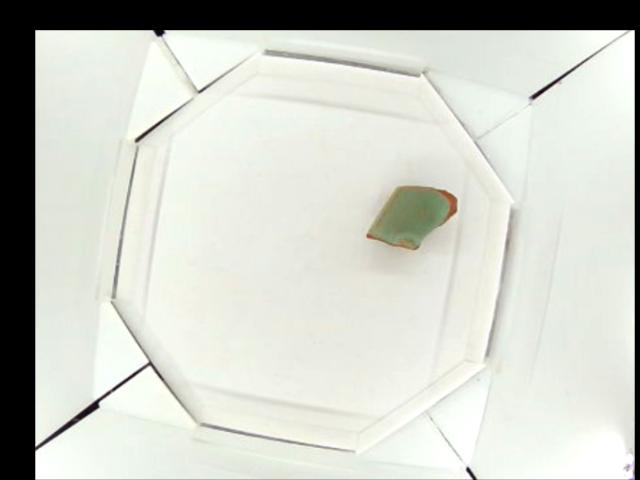China: (364, 183, 460, 249)
